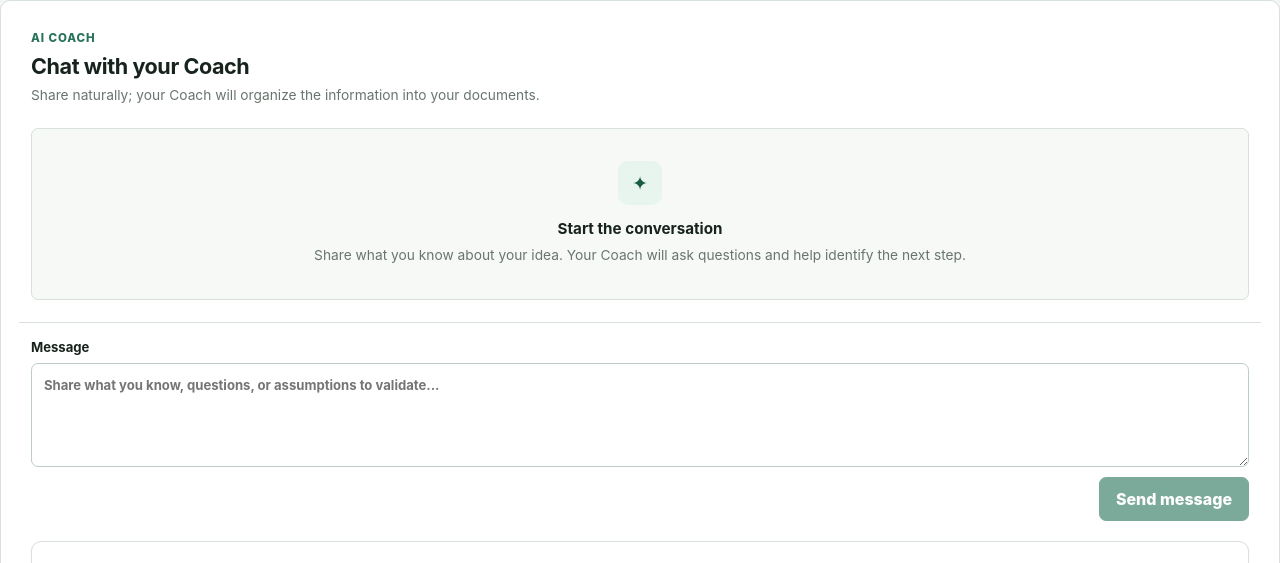
Test case: ChatPanel › does not duplicate first-send temporary messages when the new session history refetches
The image size is (1280, 563).
Expected: the heading "Start the conversation" is shown, x1=558 y1=219 x2=722 y2=238
Type "I want to build this." into the text box labelled "Message" at (640, 415), box x1=31 y1=363 x2=1249 y2=467
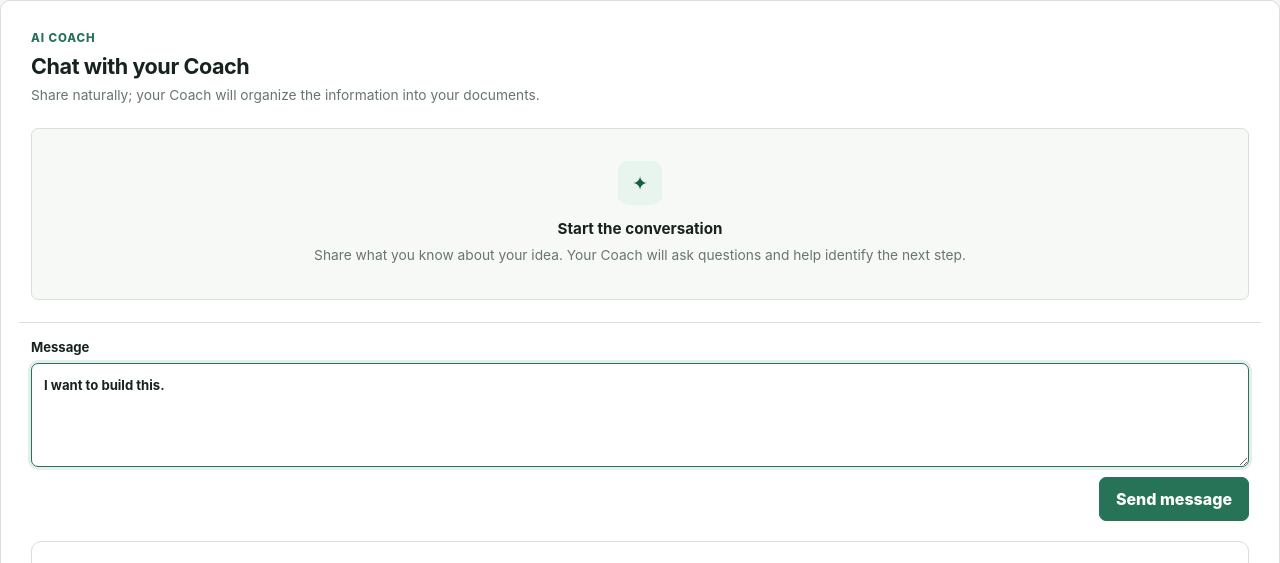
Click the button "Send message" at (1174, 499), box x1=1099 y1=477 x2=1249 y2=521
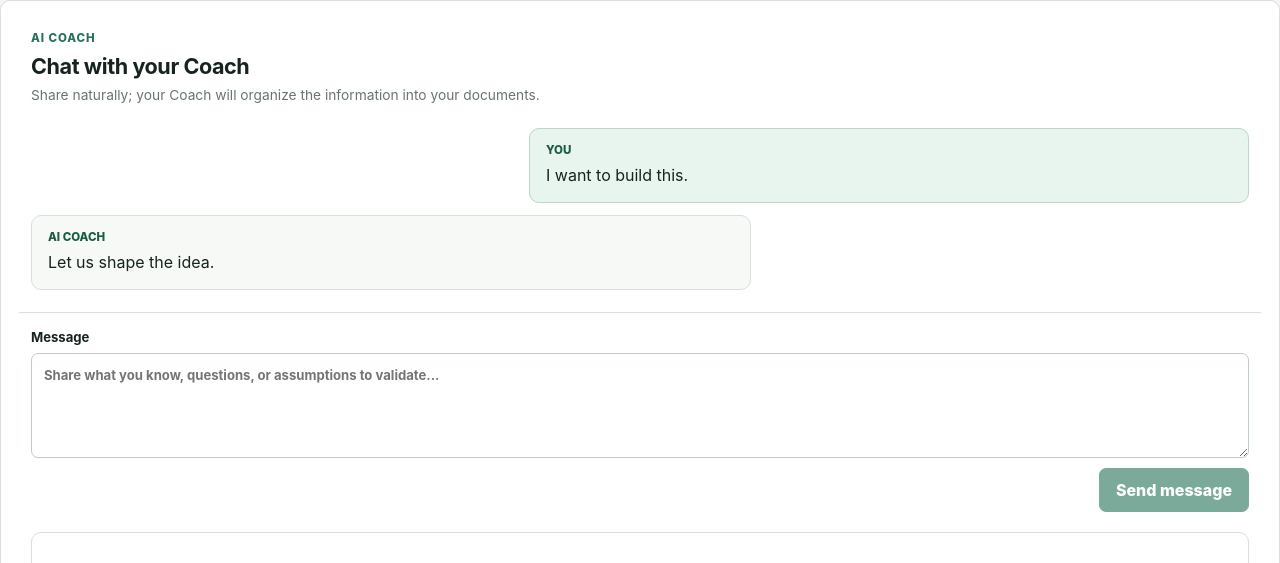
Expected: the text "Let us shape the idea." is shown once, x1=48 y1=252 x2=214 y2=272
Now the text "I want to build this." is shown once, box x1=546 y1=165 x2=688 y2=185
